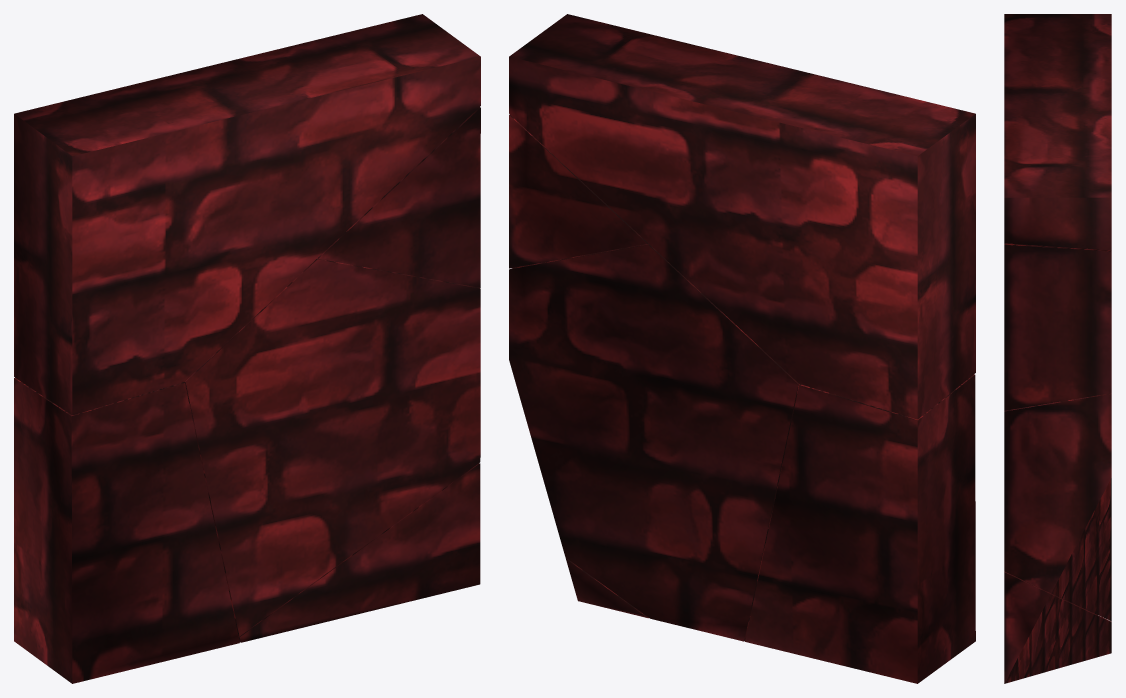
File: BLK3.fbx
The picture shows the model from 3 angles, left to right: view 1: azimuth 30°, elevation 25°; view 2: azimuth 150°, elevation 25°; view 3: azimuth 270°, elevation 25°; orthographic projection. The views are drawn at different scales.
Parts seen in each view (by area): view 1: Block_LOD0.017, Block_LOD0.019, Block_LOD0.016, Block_LOD0, Block_LOD0.018; view 2: Block_LOD0.017, Block_LOD0.019, Block_LOD0.016, Block_LOD0.018, Block_LOD0; view 3: Block_LOD0.017, Block_LOD0.019, Block_LOD0.018, Block_LOD0.
Boxes of the visible parts, x1,y1,x2,y2 form: Block_LOD0.017: [14, 14, 480, 415]; Block_LOD0.019: [184, 258, 480, 636]; Block_LOD0.016: [14, 378, 239, 683]; Block_LOD0: [238, 463, 480, 642]; Block_LOD0.018: [318, 107, 480, 287]; Block_LOD0.017: [509, 14, 975, 419]; Block_LOD0.019: [509, 243, 799, 641]; Block_LOD0.016: [745, 374, 975, 683]; Block_LOD0.018: [509, 114, 647, 268]; Block_LOD0: [565, 558, 648, 618]; Block_LOD0.017: [1004, 14, 1111, 251]; Block_LOD0.019: [1004, 393, 1111, 621]; Block_LOD0.018: [1004, 244, 1111, 410]; Block_LOD0: [1004, 571, 1111, 683].
Size of what is drawn, in the model's own units: 81.01 by 100 by 20.
